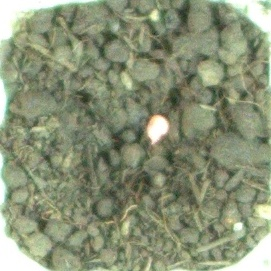pepper seed: (58, 38, 230, 186)
